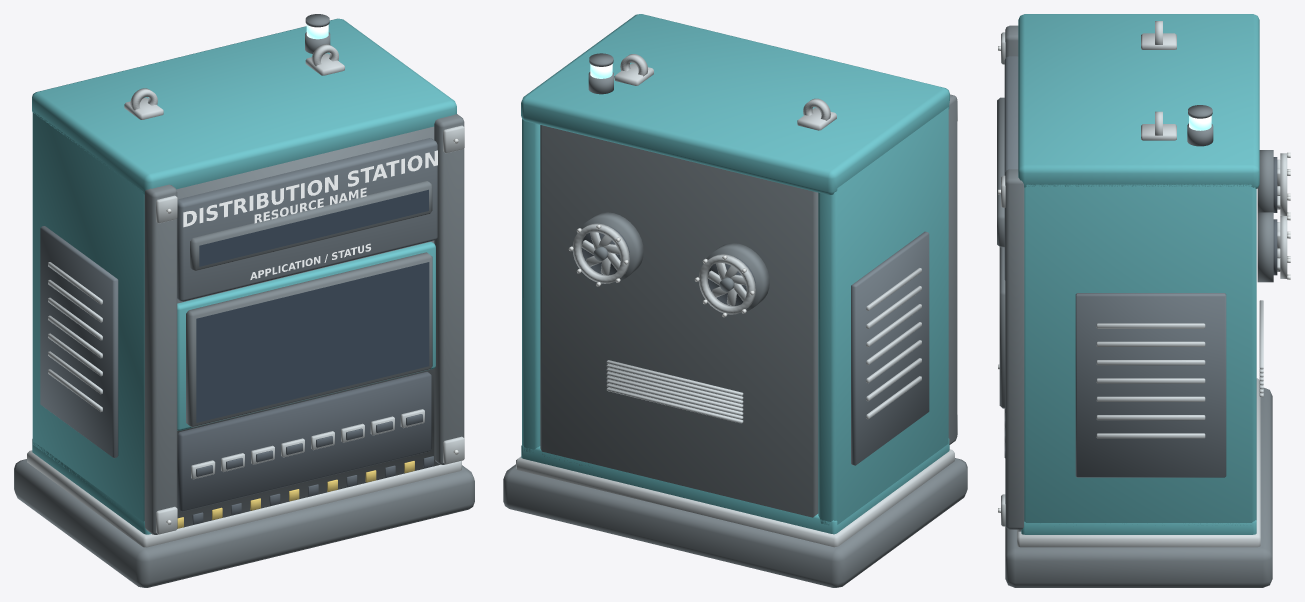
Rendered from distribution_station_enhanced.glb.
The picture shows the model from 3 angles, left to right: view 1: azimuth 30°, elevation 25°; view 2: azimuth 150°, elevation 25°; view 3: azimuth 270°, elevation 25°; orthographic projection. The views are drawn at different scales.
Visible parts, largest first — view 1: Roof_teal, LiveViewSurface_glass, SideWall_teal, CornerPost_frame, Skid_frame, PatchPanel_black, FrontHeader_graphite, SideServicePanel_graphite, SealFront_frame, SkidDeck_steel, LiveViewSurfaceFrame_frame, ResourceNameSurface_glass (+14 smaller); view 2: BackWall_frame, Roof_teal, SideWall_teal, Skid_frame, SideServicePanel_graphite, SkidDeck_steel, KickPlate_teal, RearFan_steel, RearVent_steel, CornerPost_frame, RearFan_frame, SideLouver_steel (+3 smaller); view 3: SideWall_teal, Roof_teal, SideServicePanel_graphite, Skid_frame, CornerPost_frame, SideLouver_steel, SkidDeck_steel, KickPlate_teal, RearFan_frame, FrontHeader_graphite, RearFan_steel, LiveViewSurfaceFrame_frame (+7 smaller).
Part boxes in pixels (x1,y1,x2,y2): Roof_teal: [32, 18, 456, 194]; LiveViewSurface_glass: [196, 262, 429, 422]; SideWall_teal: [32, 112, 144, 521]; CornerPost_frame: [144, 114, 464, 534]; Skid_frame: [14, 459, 474, 587]; PatchPanel_black: [177, 372, 431, 511]; FrontHeader_graphite: [177, 138, 437, 301]; SideServicePanel_graphite: [40, 226, 118, 457]; SealFront_frame: [176, 126, 439, 527]; SkidDeck_steel: [27, 450, 461, 547]; LiveViewSurfaceFrame_frame: [186, 252, 432, 427]; ResourceNameSurface_glass: [199, 189, 428, 266]; BackWall_frame: [540, 125, 818, 517]; Roof_teal: [521, 14, 949, 195]; SideWall_teal: [522, 107, 948, 525]; Skid_frame: [503, 458, 967, 587]; SideServicePanel_graphite: [851, 231, 929, 465]; SkidDeck_steel: [516, 449, 954, 547]; KickPlate_teal: [521, 438, 949, 534]; RearFan_steel: [572, 223, 755, 314]; RearVent_steel: [606, 360, 743, 423]; CornerPost_frame: [948, 94, 957, 444]; RearFan_frame: [581, 212, 769, 312]; SideLouver_steel: [866, 268, 921, 419]; SideWall_teal: [1024, 184, 1256, 525]; Roof_teal: [1018, 14, 1259, 188]; SideServicePanel_graphite: [1075, 293, 1226, 477]; Skid_frame: [1005, 388, 1272, 587]; CornerPost_frame: [1005, 25, 1024, 529]; SideLouver_steel: [1096, 323, 1205, 438]; SkidDeck_steel: [1017, 378, 1260, 547]; KickPlate_teal: [1021, 520, 1256, 534]; RearFan_frame: [1257, 150, 1273, 282]; FrontHeader_graphite: [1004, 56, 1018, 280]; RearFan_steel: [1277, 153, 1287, 278]; LiveViewSurfaceFrame_frame: [999, 247, 1005, 408].
Bounding box in the file's own units: 2 × 2.48 × 1.47.
